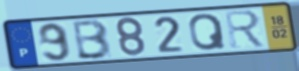2: (153, 15, 186, 55)
8: (115, 16, 147, 59)
9: (37, 21, 72, 63)
B: (72, 18, 114, 61)
Q: (187, 12, 228, 52)
R: (222, 8, 268, 50)
